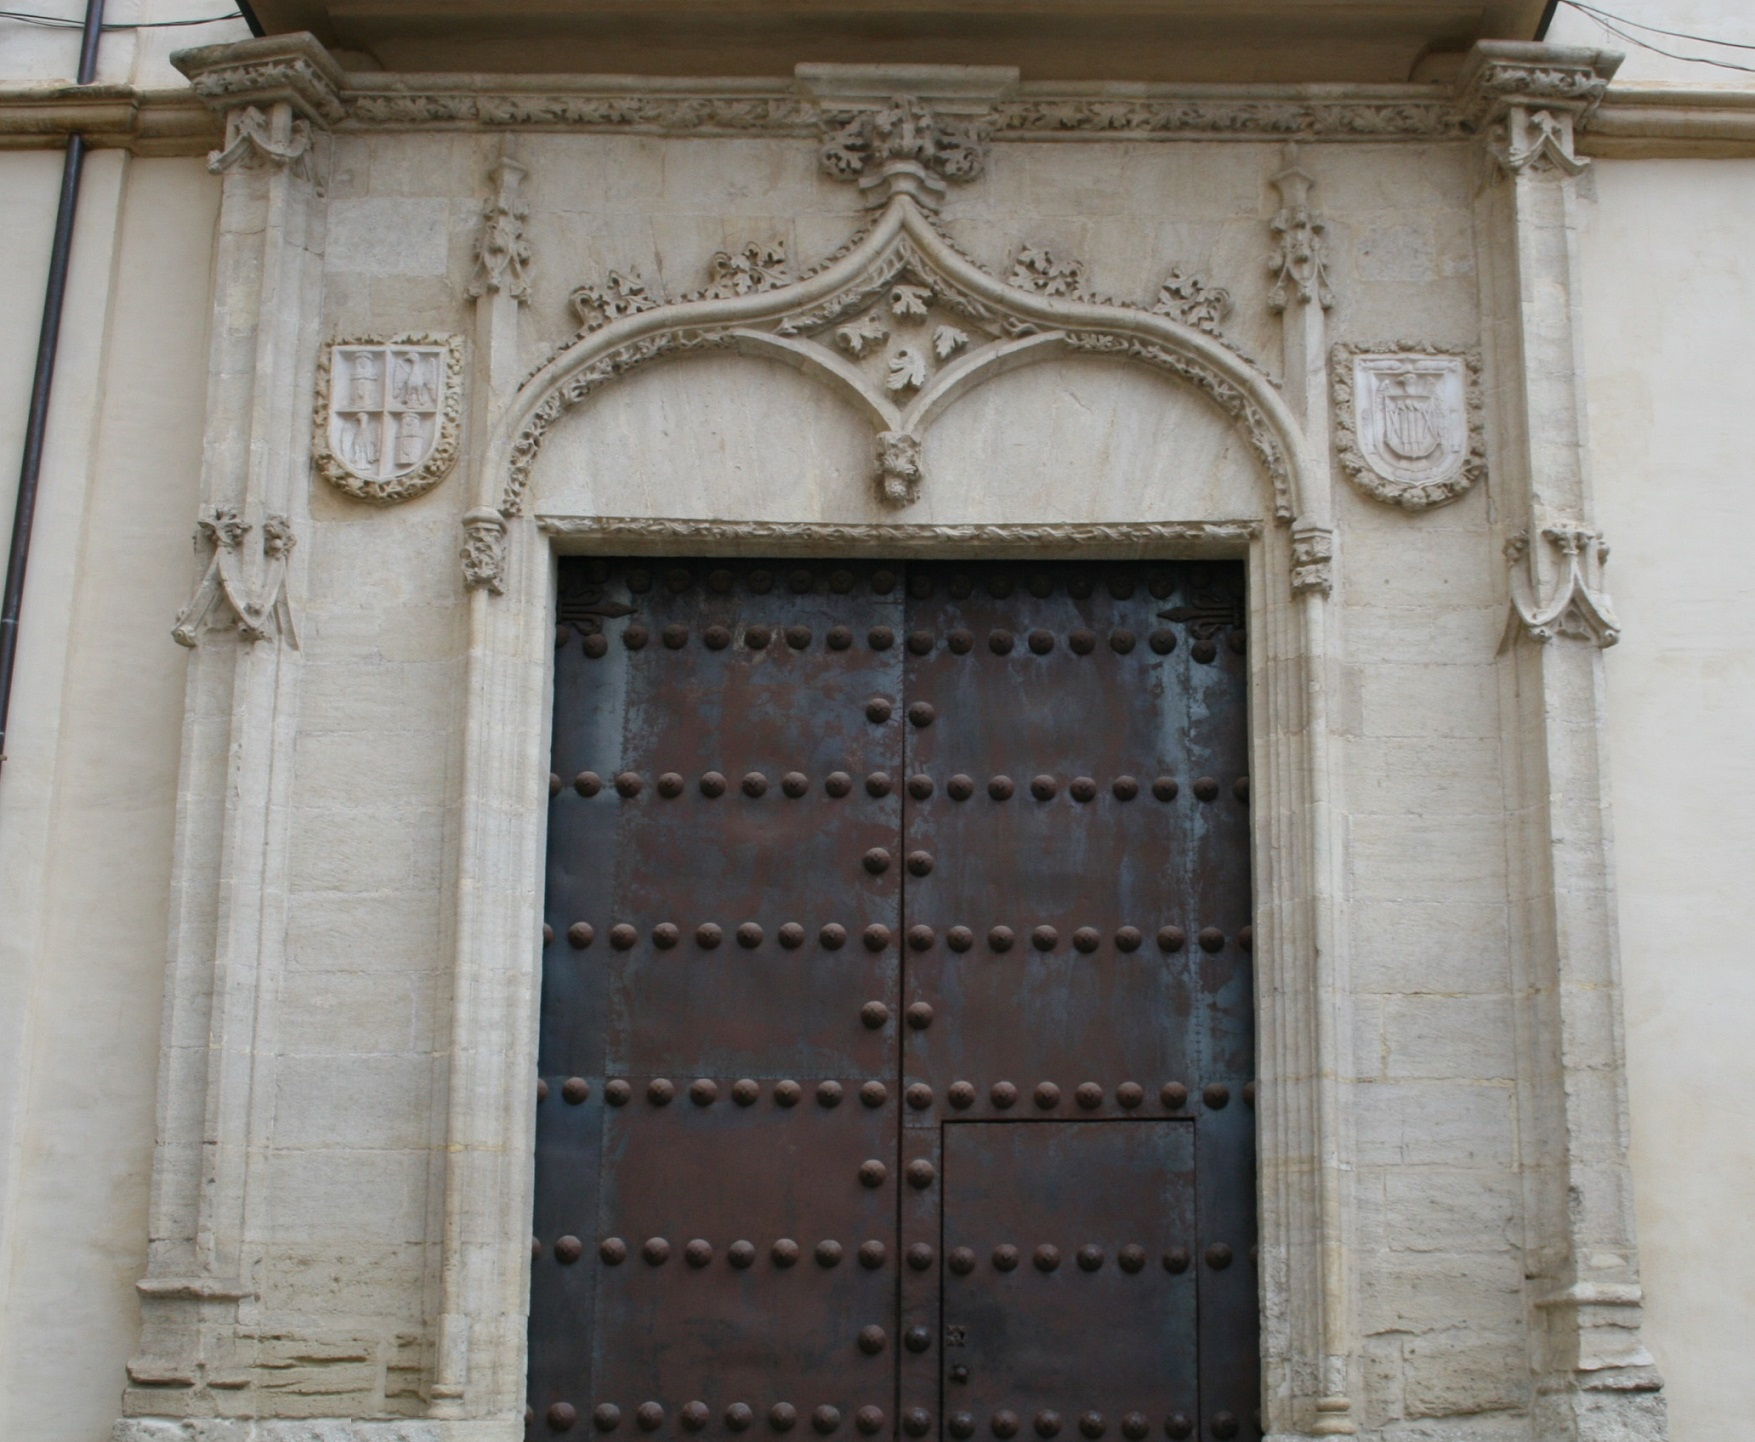arco-conopial: (478, 174, 1319, 521)
